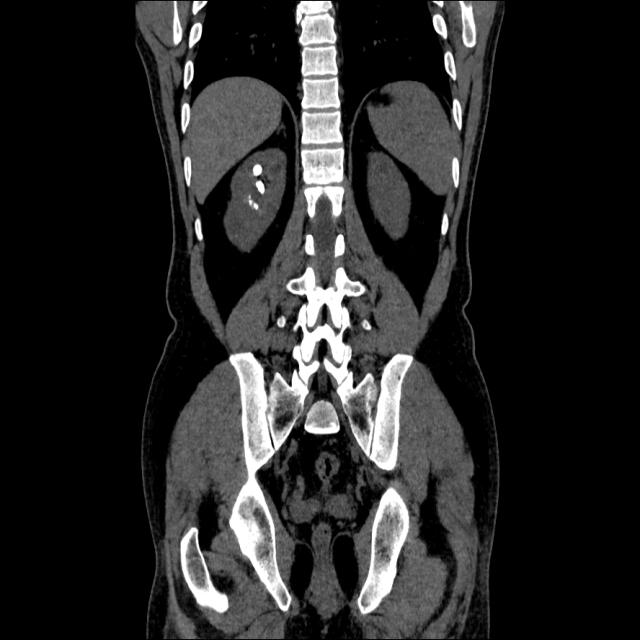kidneystone: (249, 196, 259, 211), (252, 164, 262, 177), (255, 181, 264, 195)
